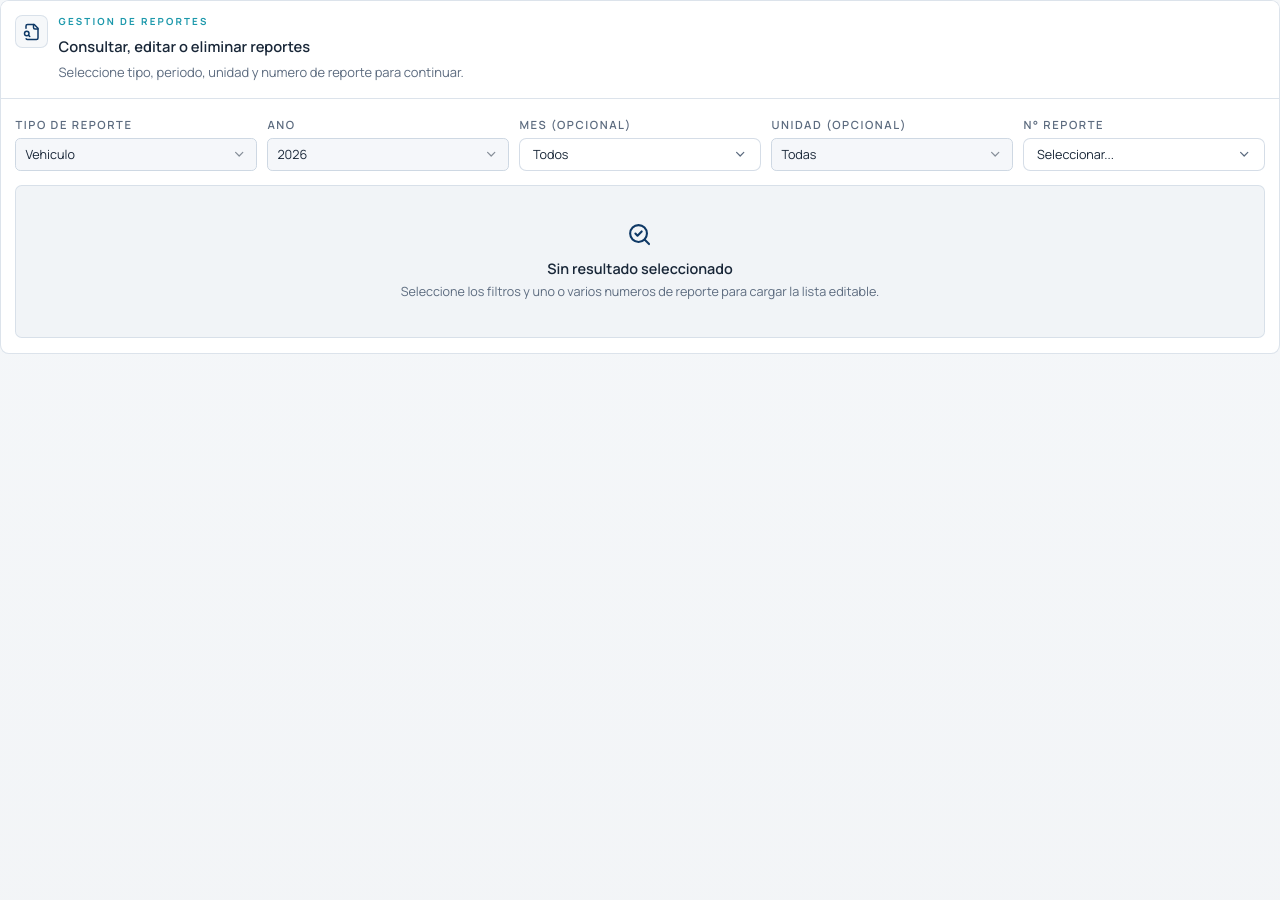
Test case: ManageReport › keeps first-day reports in their selected month
Step 1. Click the button "Todos" → click(640, 154), box [519,138,761,171]
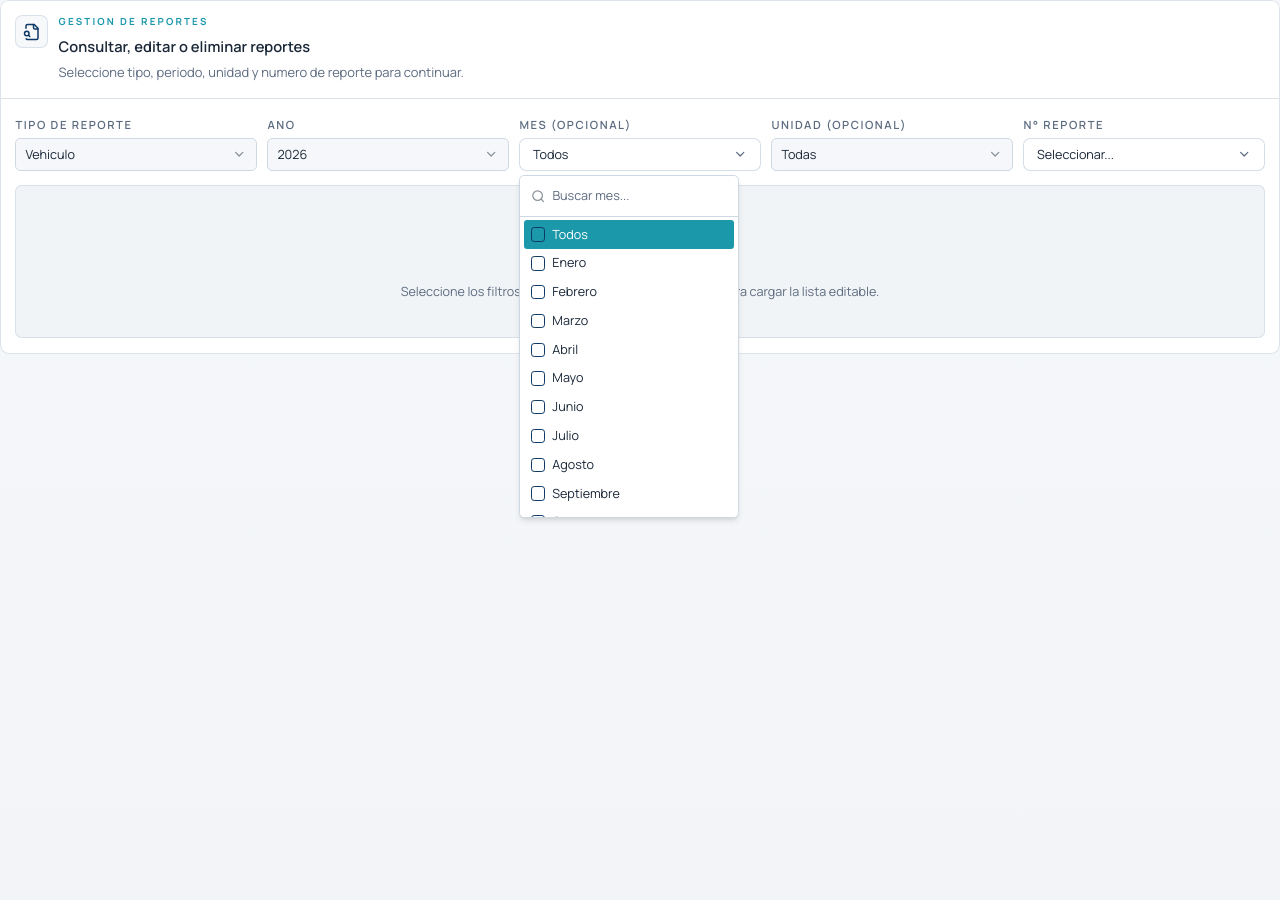
Step 2. Click the option "Abril" → click(554, 349), box [531,341,578,358]
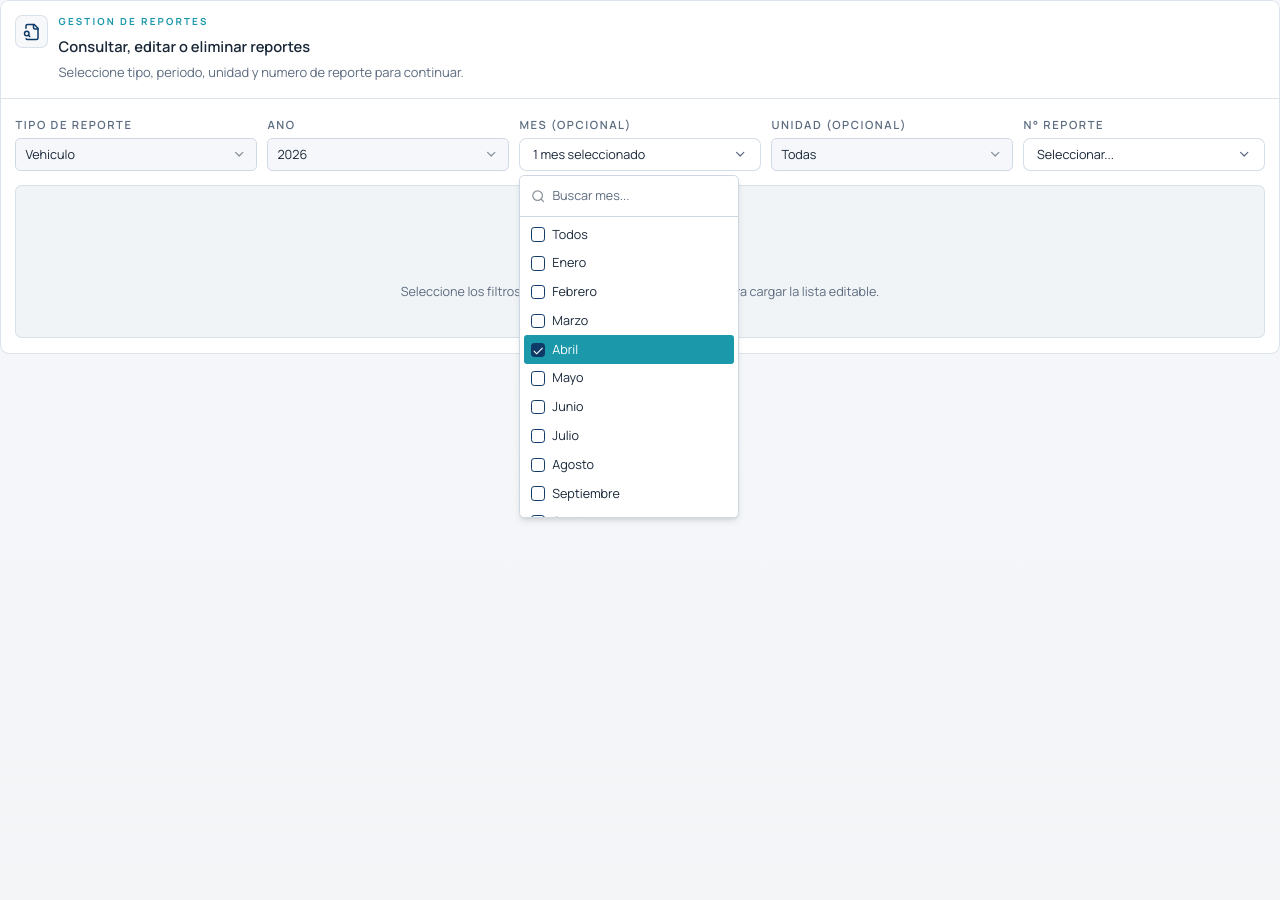
Step 3. Click the button "Seleccionar..." → click(1144, 154), box [1023,138,1265,171]
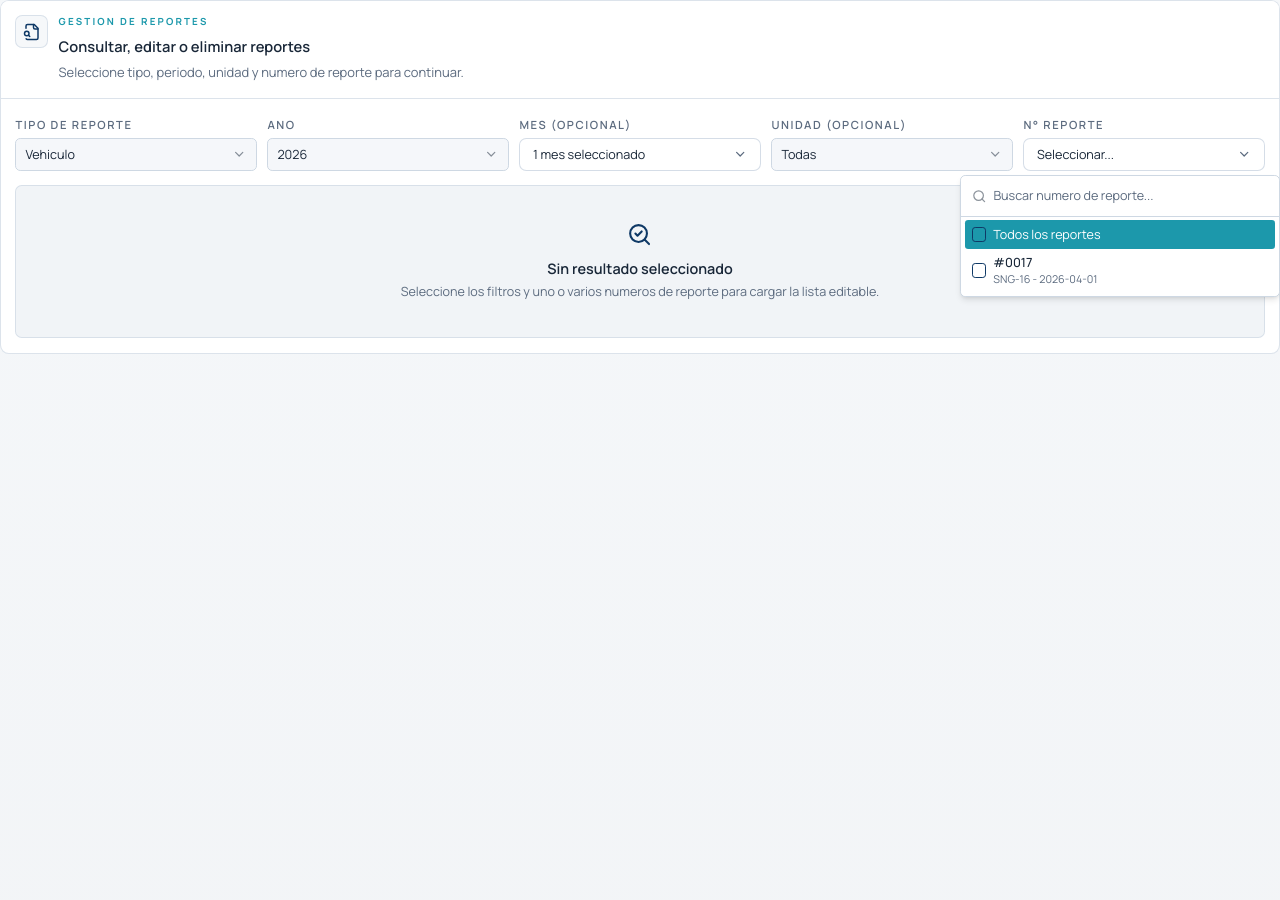
Check: the text "#0017" is shown, box [993,254,1032,271]
